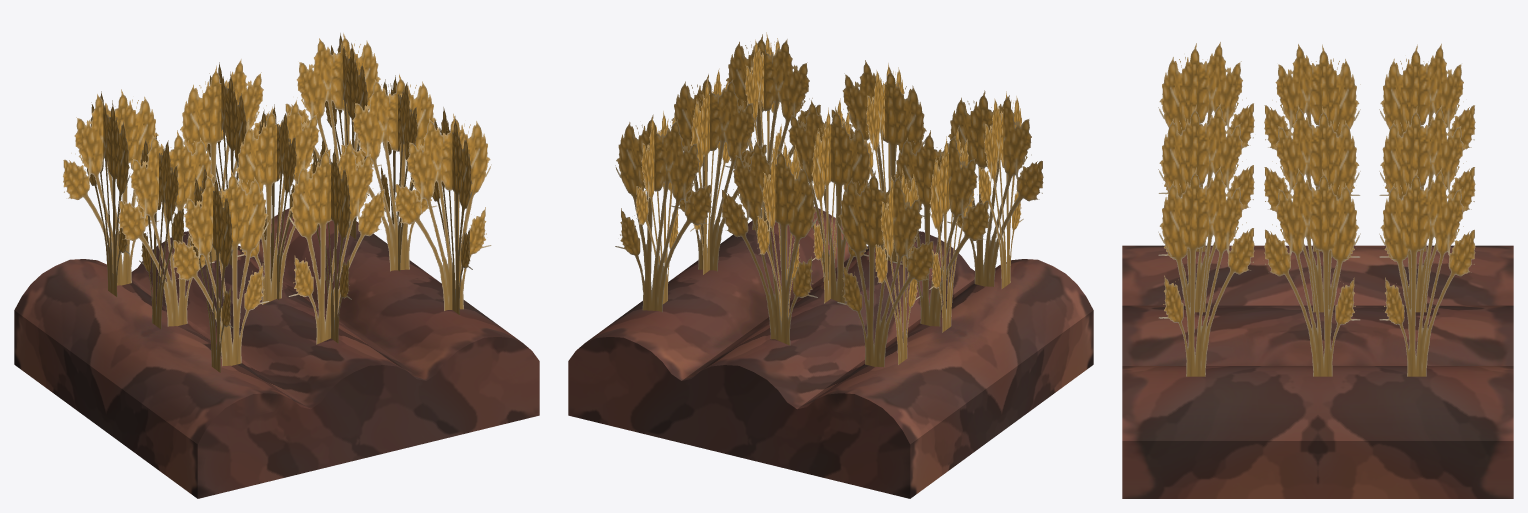
Rendered from Field_Grown.fbx.
3 views of the same model, side by side, from view 1: azimuth 30°, elevation 25°; view 2: azimuth 150°, elevation 25°; view 3: azimuth 270°, elevation 25° (orthographic). The views are drawn at different scales.
Parts seen in each view (by area): view 1: Plowed_Field, Crops.001, Crops; view 2: Plowed_Field, Crops.001, Crops; view 3: Plowed_Field, Crops.
Boxes of the visible parts, <box> form: Plowed_Field: <box>14,208,539,498</box>; Crops.001: <box>63,33,491,366</box>; Crops: <box>85,33,472,372</box>; Plowed_Field: <box>568,206,1093,498</box>; Crops.001: <box>615,34,1043,367</box>; Crops: <box>636,32,1023,364</box>; Plowed_Field: <box>1122,245,1513,498</box>; Crops: <box>1158,42,1475,376</box>.
Size of the model in its own units: 394 by 319 by 367.
